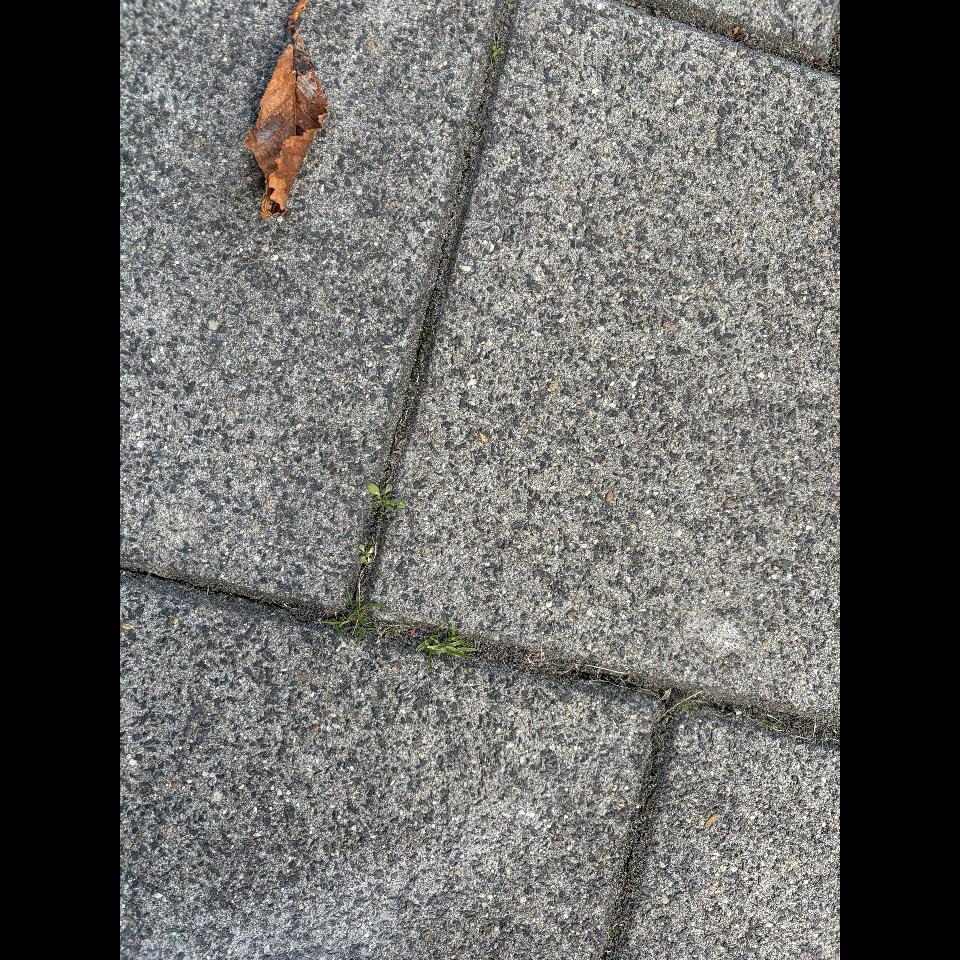weed: (417, 618, 478, 667), (366, 483, 404, 510), (359, 541, 375, 564), (492, 40, 504, 63)
